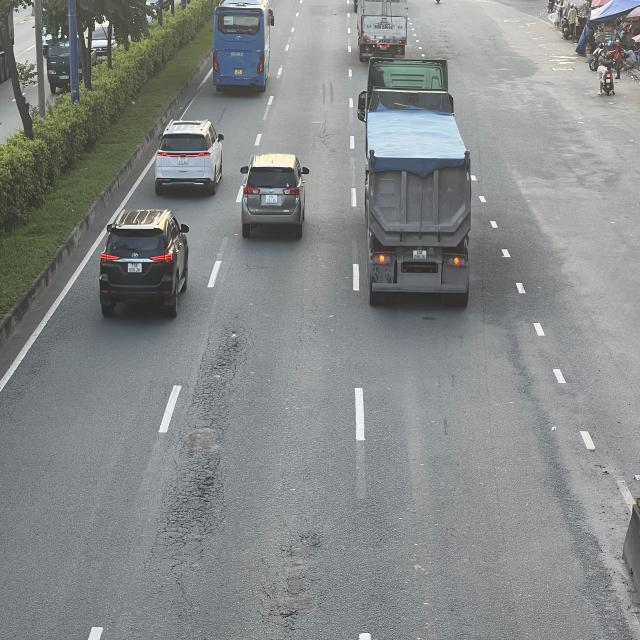car: (98, 210, 192, 321), (241, 157, 311, 241), (156, 118, 226, 196)
coach: (211, 0, 272, 92)
container: (359, 57, 473, 310)
truck: (354, 0, 408, 57)
